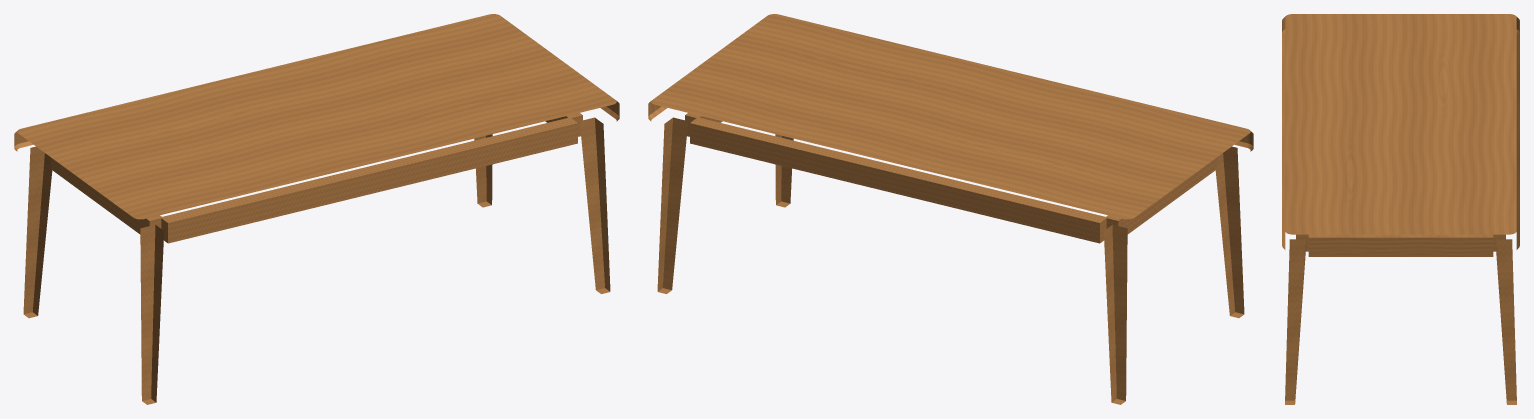
Rendered from dining-table-v2.glb.
The picture shows the model from 3 angles, left to right: view 1: azimuth 30°, elevation 25°; view 2: azimuth 150°, elevation 25°; view 3: azimuth 270°, elevation 25°; orthographic projection. The views are drawn at different scales.
Visible parts, largest first — view 1: room03-dining-table; view 2: room03-dining-table; view 3: room03-dining-table.
Boxes of the visible parts, x1=… form: room03-dining-table: x1=14, y1=14, x2=619, y2=404; room03-dining-table: x1=648, y1=14, x2=1253, y2=404; room03-dining-table: x1=1282, y1=14, x2=1519, y2=404.
Size of the model in its own units: 2 by 0.73 by 0.9.
1 material, 1 textured.
